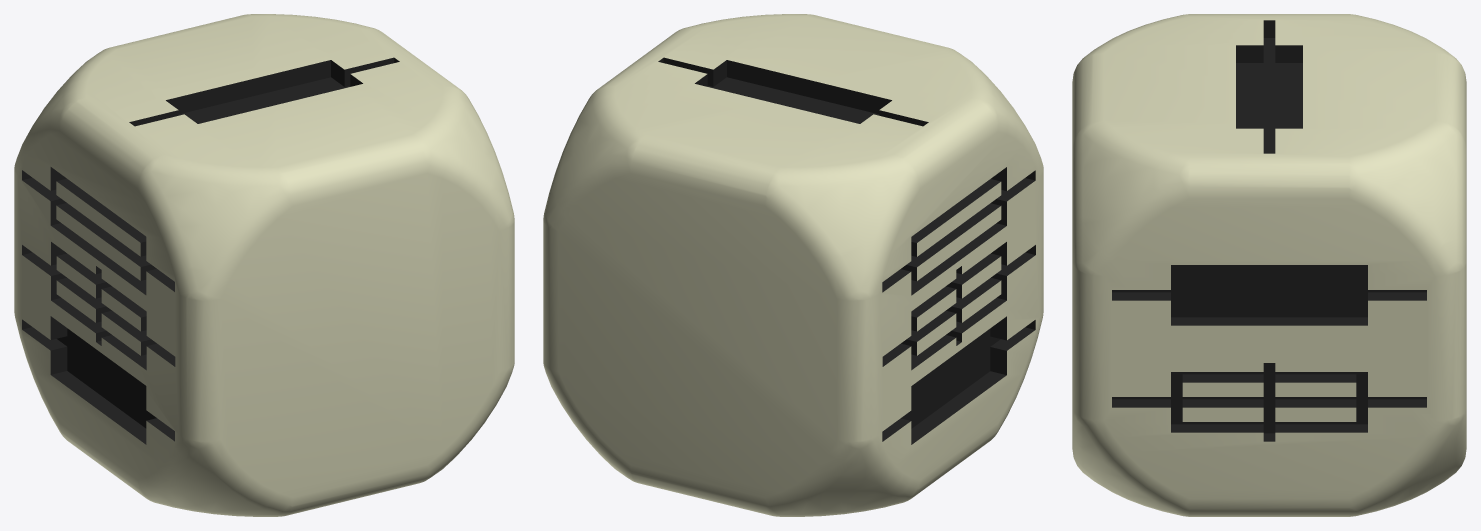
The model's file is DieLocks.glb.
The picture shows the model from 3 angles, left to right: view 1: azimuth 30°, elevation 25°; view 2: azimuth 150°, elevation 25°; view 3: azimuth 270°, elevation 25°; orthographic projection. The views are drawn at different scales.
Visible parts, largest first — view 1: Die_Body; view 2: Die_Body; view 3: Die_Body.
Boxes of the visible parts, <box> form: Die_Body: <box>14,14,514,516</box>; Die_Body: <box>543,14,1043,516</box>; Die_Body: <box>1072,14,1466,516</box>.
Size of the model in its own units: 1 by 1 by 1.
